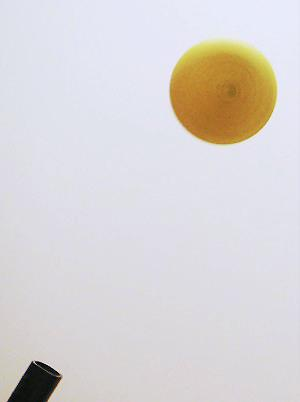oball: (170, 36, 282, 156)
